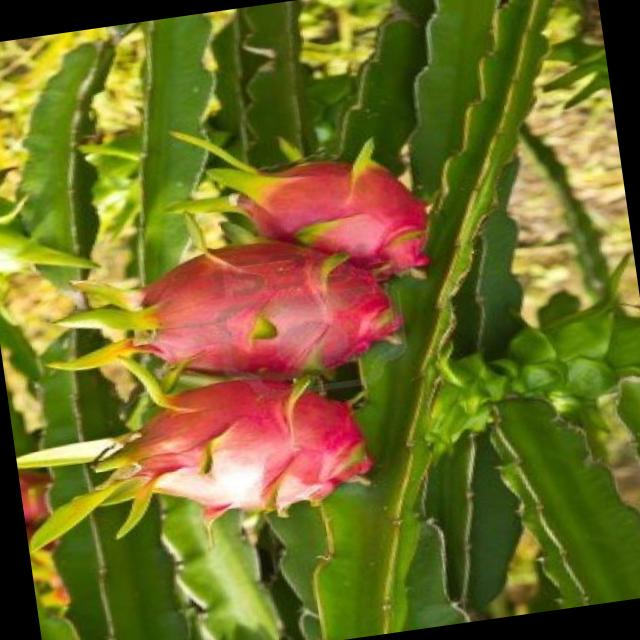Thanh Long: (52, 238, 406, 406), (78, 362, 382, 548), (218, 133, 448, 292)
